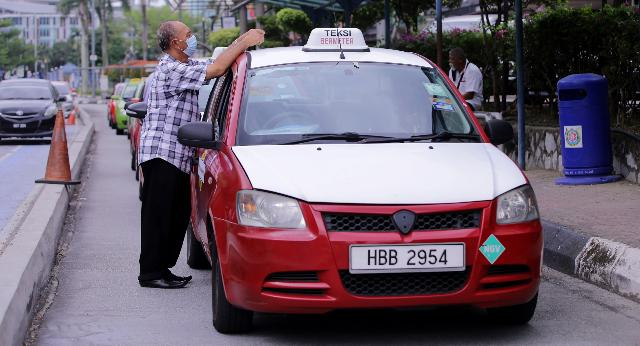License_Plate: (351, 243, 468, 273)
car: (184, 23, 553, 327)
